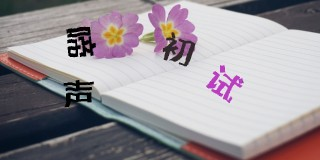初: (163, 32, 195, 67)
啼: (64, 25, 97, 59)
声: (62, 79, 93, 108)
试: (207, 63, 244, 103)
